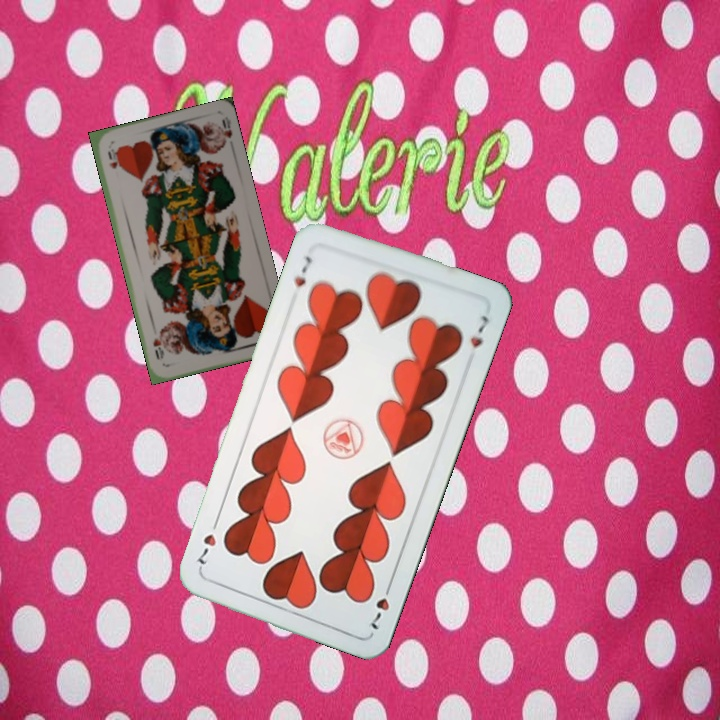H7: (366, 577, 395, 633), (290, 251, 315, 290)
HO: (104, 144, 120, 171)
